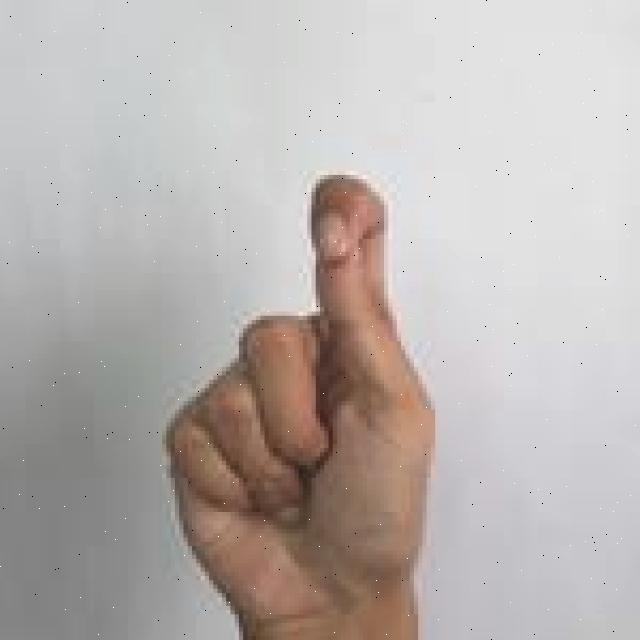T: (157, 170, 441, 640)
